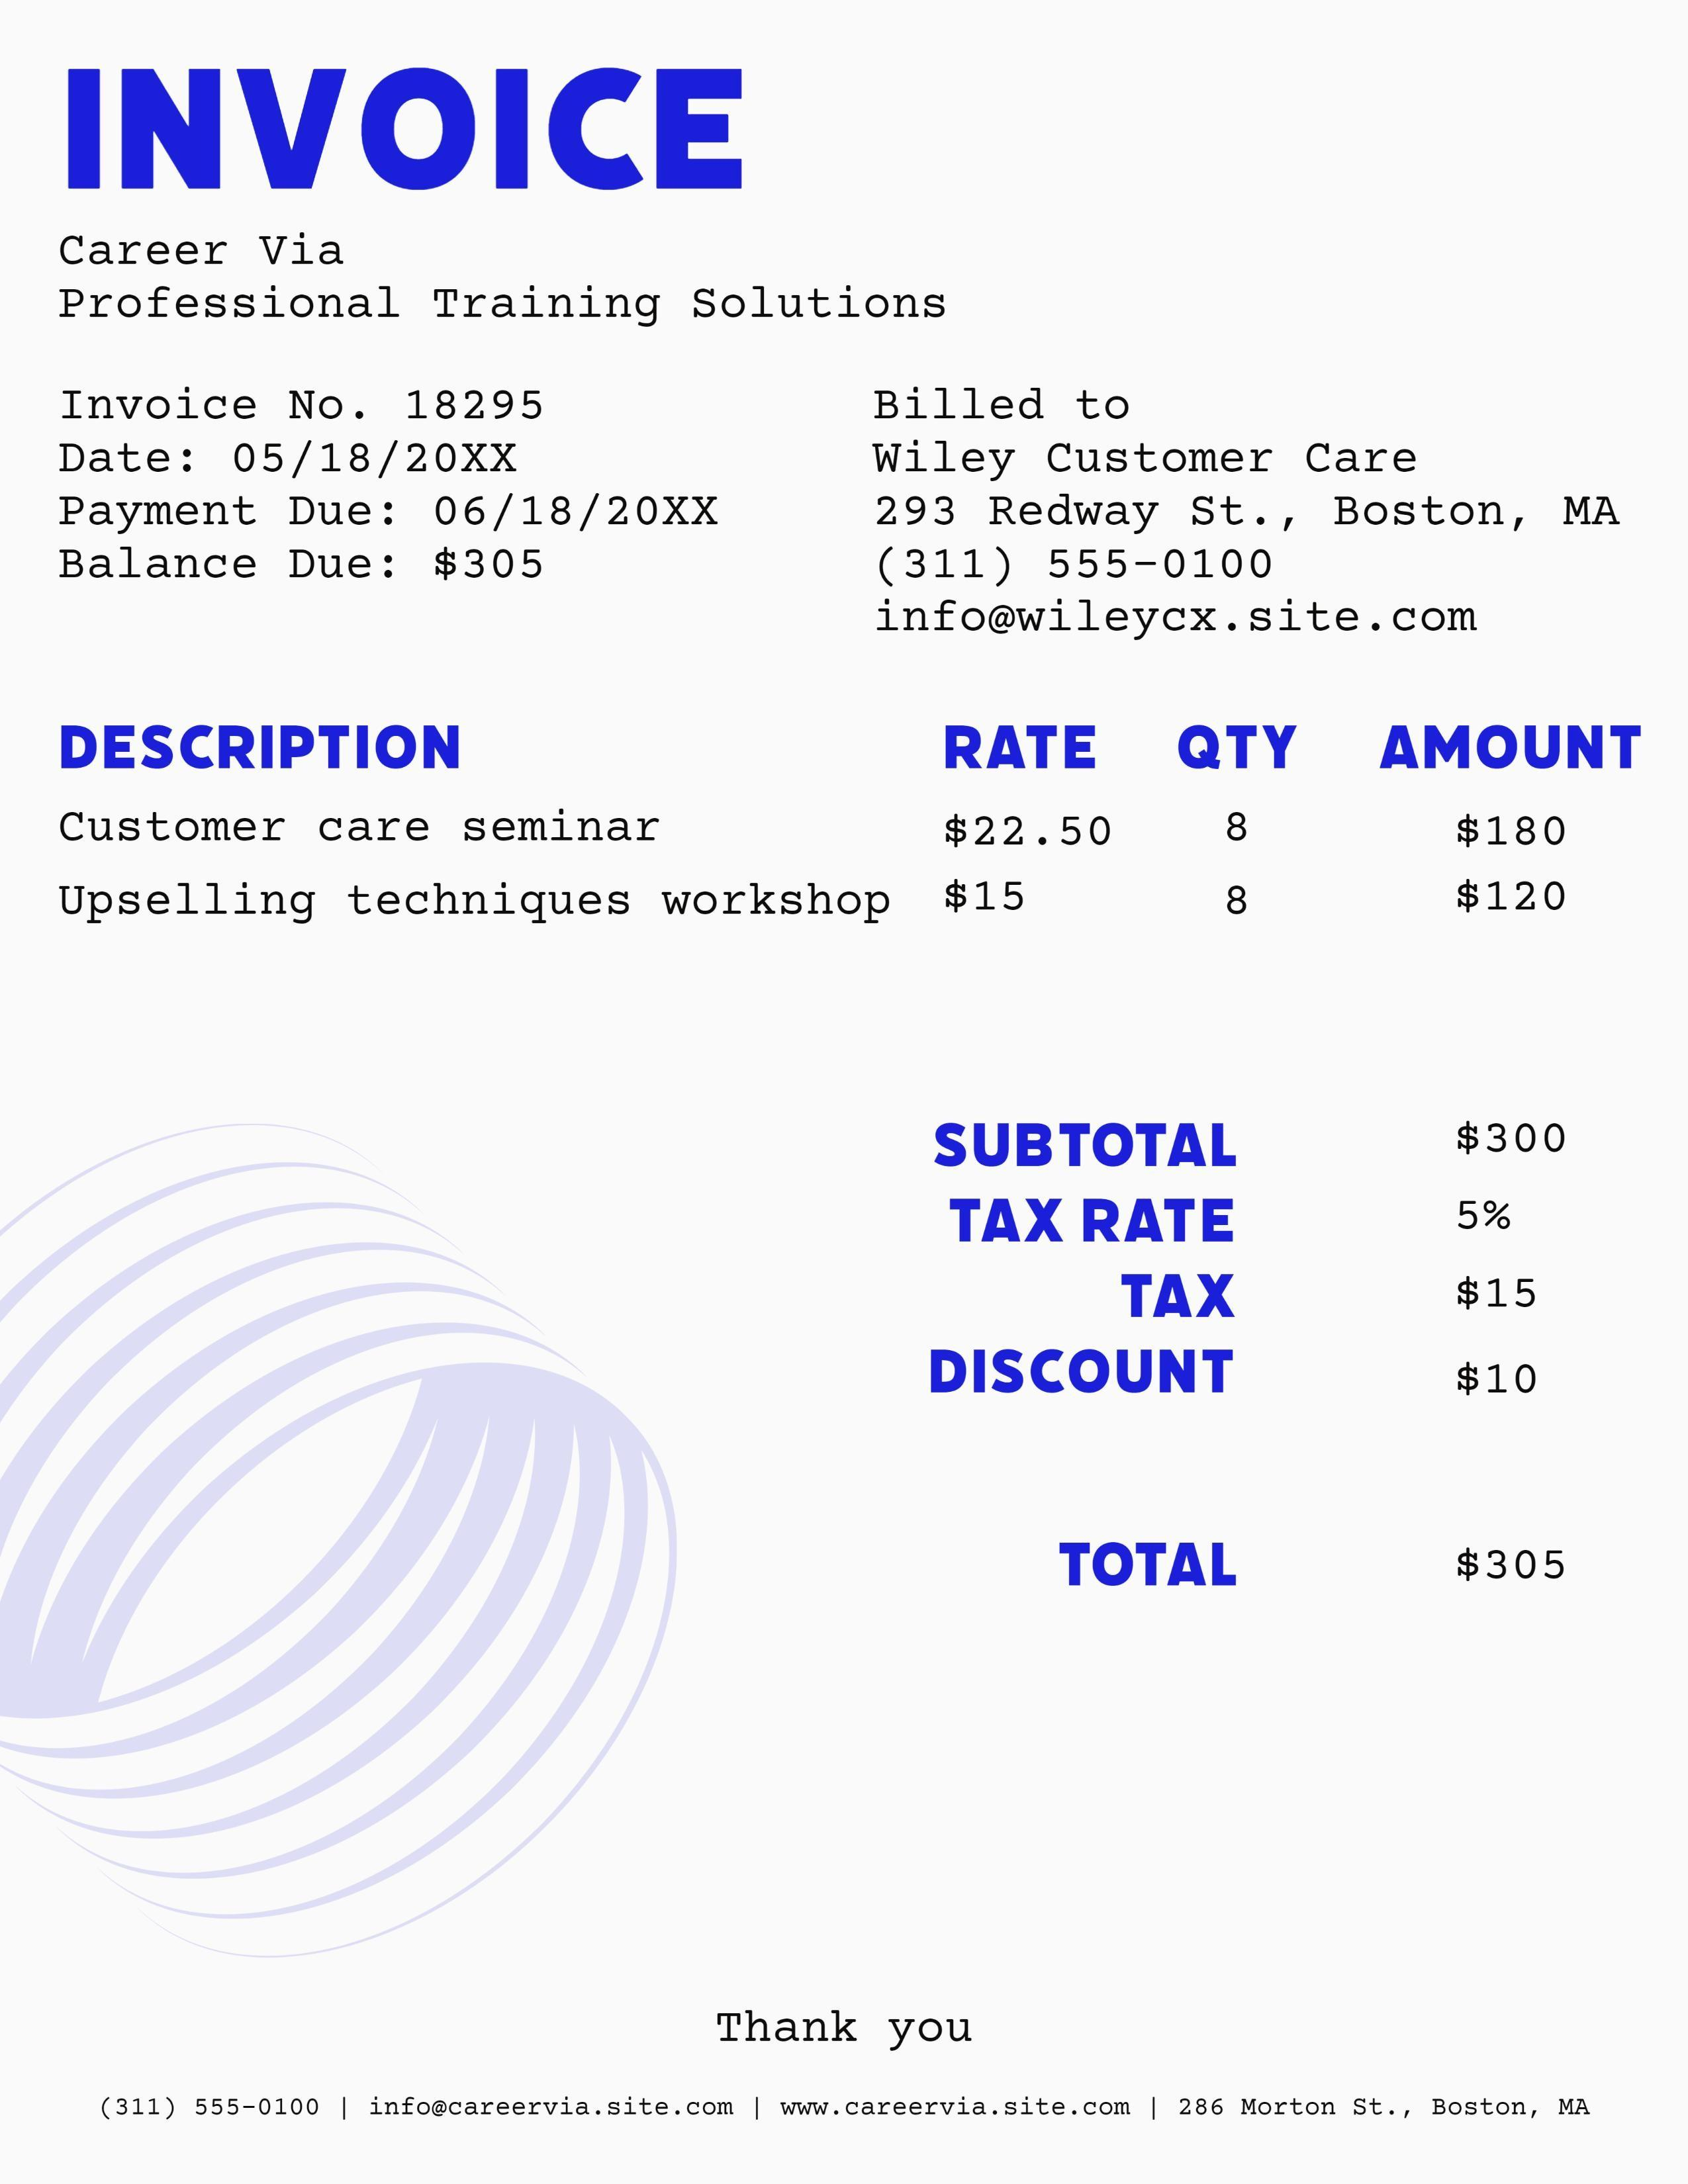ROI: (27, 720, 1665, 938), (918, 1096, 1587, 1595), (860, 362, 1661, 635), (46, 362, 738, 615), (51, 209, 965, 337)
